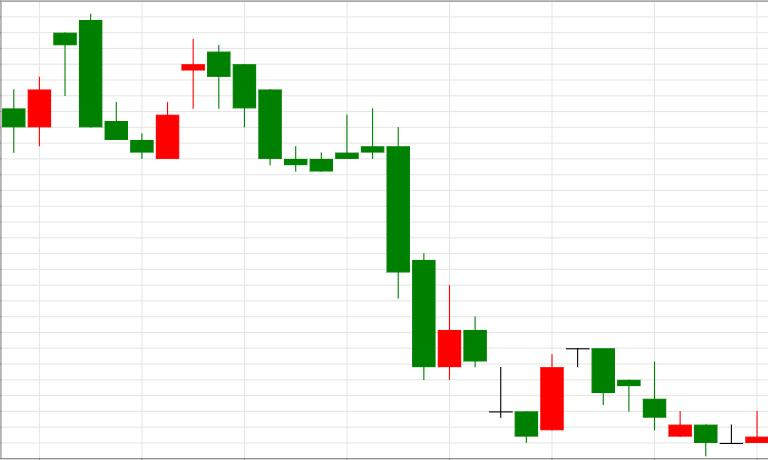inverse_hammer_rise: (207, 44, 461, 381)
